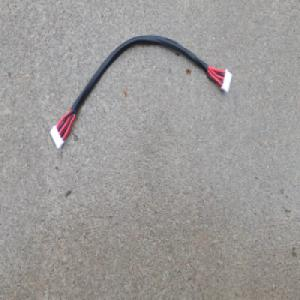Wire: (49, 33, 233, 152)
